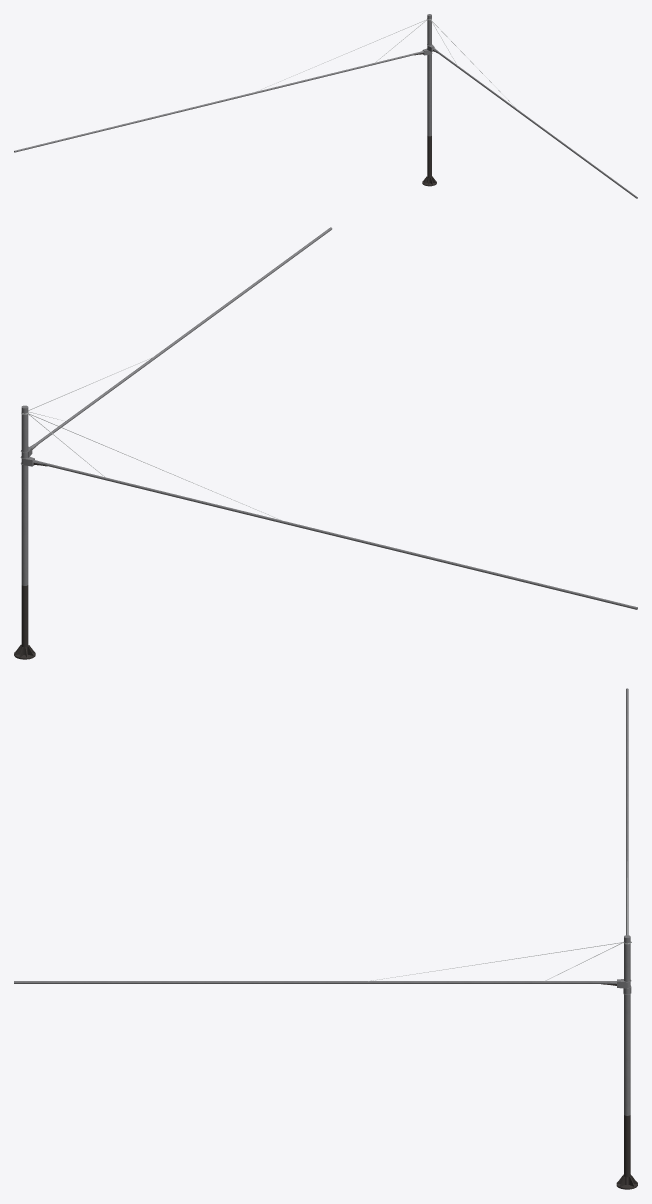
The model's file is RoadTrafficLight_04.fbx.
The picture shows the model from 3 angles, top to bottom: view 1: azimuth 30°, elevation 25°; view 2: azimuth 150°, elevation 25°; view 3: azimuth 270°, elevation 25°; orthographic projection. The views are drawn at different scales.
Parts seen in each view (by area): view 1: RoadTrafficLight_04; view 2: RoadTrafficLight_04; view 3: RoadTrafficLight_04.
Boxes of the visible parts, <box> form: RoadTrafficLight_04: <box>14,14,637,198</box>; RoadTrafficLight_04: <box>14,227,637,659</box>; RoadTrafficLight_04: <box>14,688,637,1189</box>.
Bounding box in the file's own units: 2252 × 859 × 1955.
2 materials, 2 textured.
